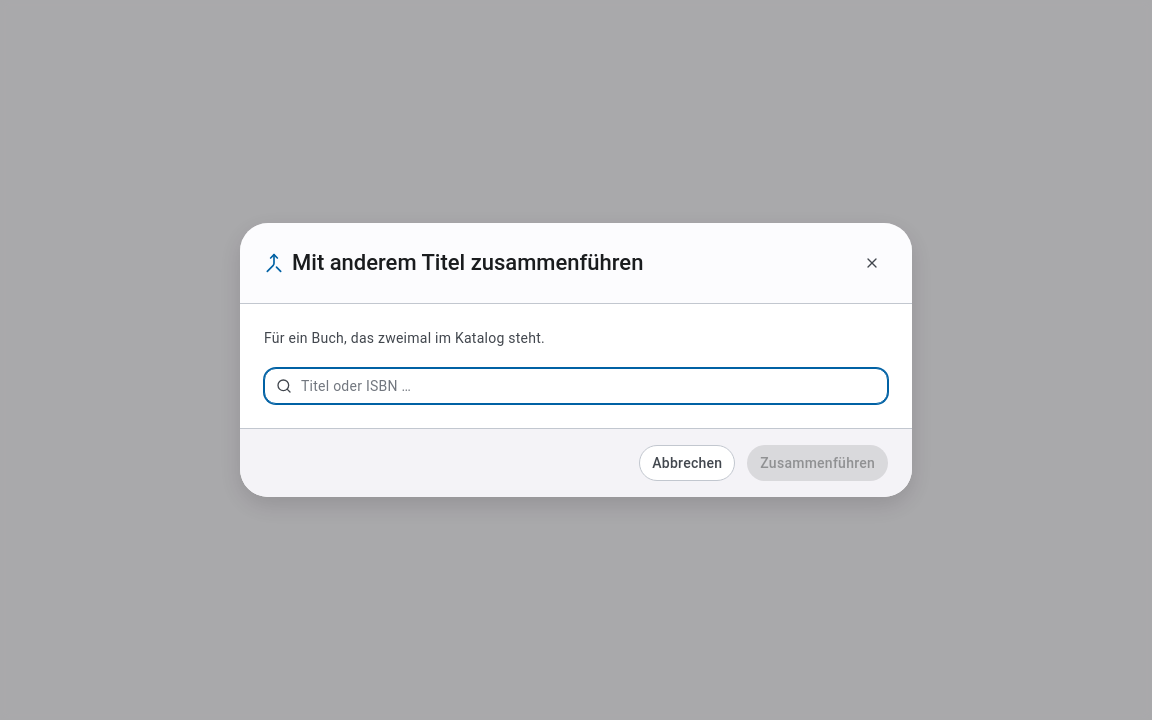
TitelZusammenfuehrenDialog › lässt den Titel mit ISBN bleiben und zeigt in einer Zeile, wie er danach aussieht
The width and height of the screenshot is (1152, 720).
In the search field named "Anderen Titel suchen": x=576, y=386 [264,368,888,404], type "Natur"
Wait 250 ms
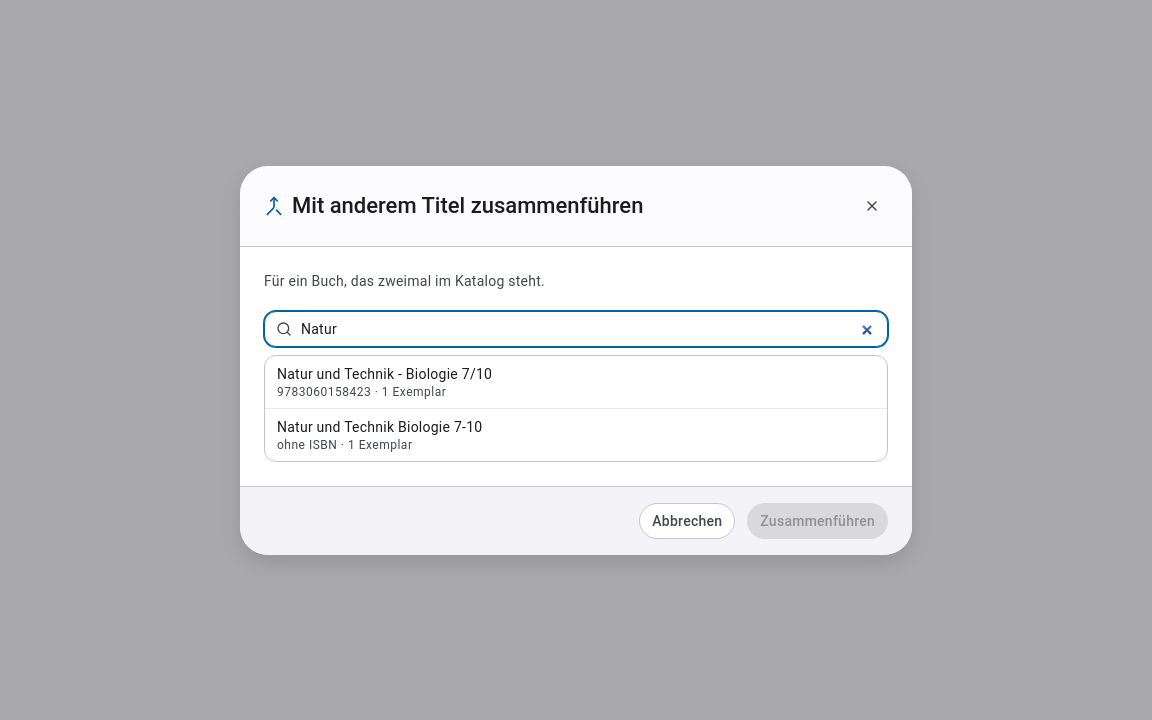
expect the button "Zusammenführen" is disabled: met, box [747,502,888,538]
Click the button "Natur und Technik - Biologie 7/10 9783060158423 · 1 Exemplar": x=385, y=374 [265,356,887,408]
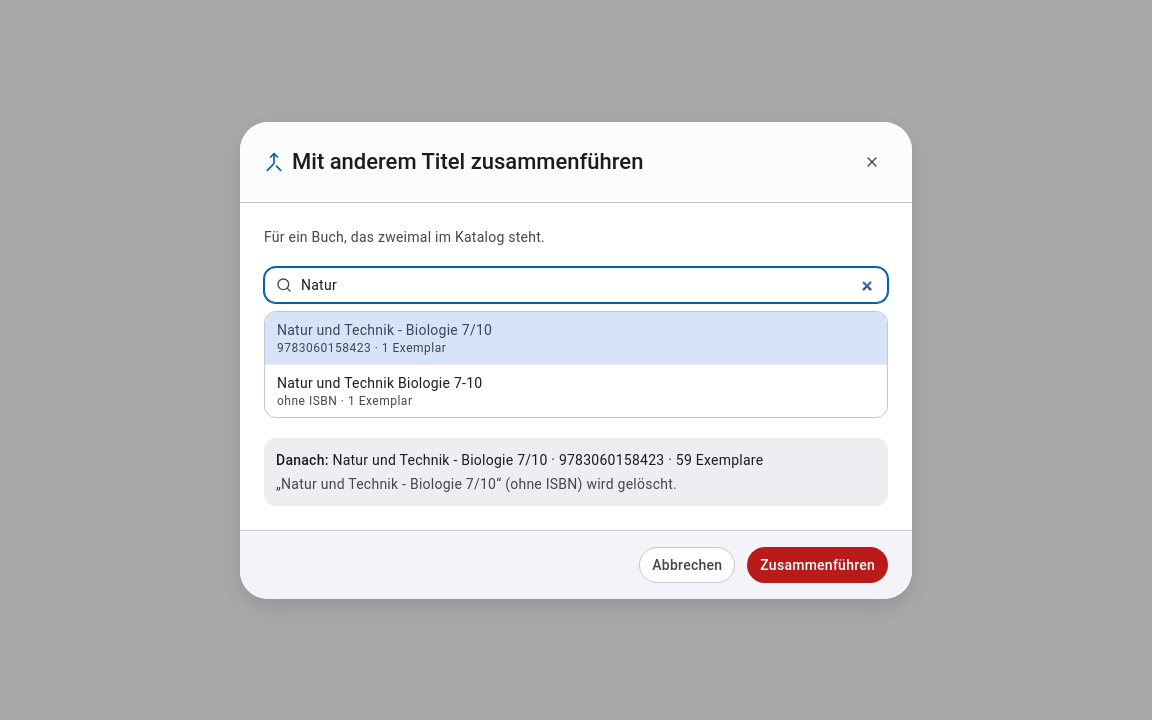
expect the text "9783060158423 · 59 Exemplare" is shown: met, box [329,452,763,468]
expect the text "(ohne ISBN) wird gelöscht" is shown: met, box [276,476,677,492]
expect the button "Zusammenführen" is enabled: met, box [747,546,888,582]
